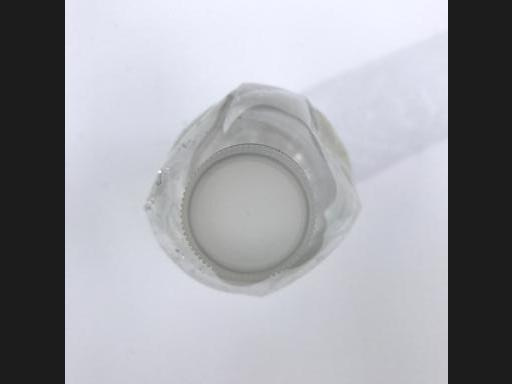bottle: (118, 77, 386, 318)
